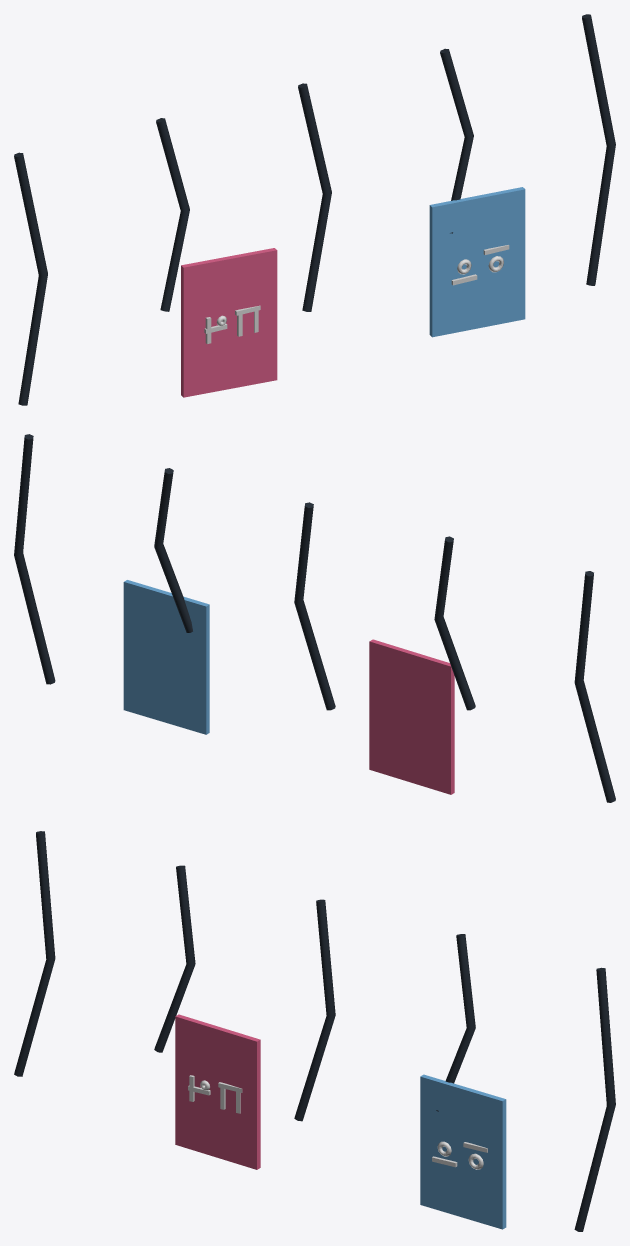
The model's file is overlay_2.fbx.
3 views of the same model, one above another, from view 1: azimuth 30°, elevation 25°; view 2: azimuth 150°, elevation 25°; view 3: azimuth 330°, elevation 25° (orthographic).
Parts seen in each view (by area): view 1: overlay_2; view 2: overlay_2; view 3: overlay_2.
Part boxes in pixels (x1,y1,x2,y2): overlay_2: (14,14,615,405); overlay_2: (14,434,615,802); overlay_2: (14,831,615,1231).
Bounding box in the file's own units: 3.4 × 1.46 × 0.2142.
